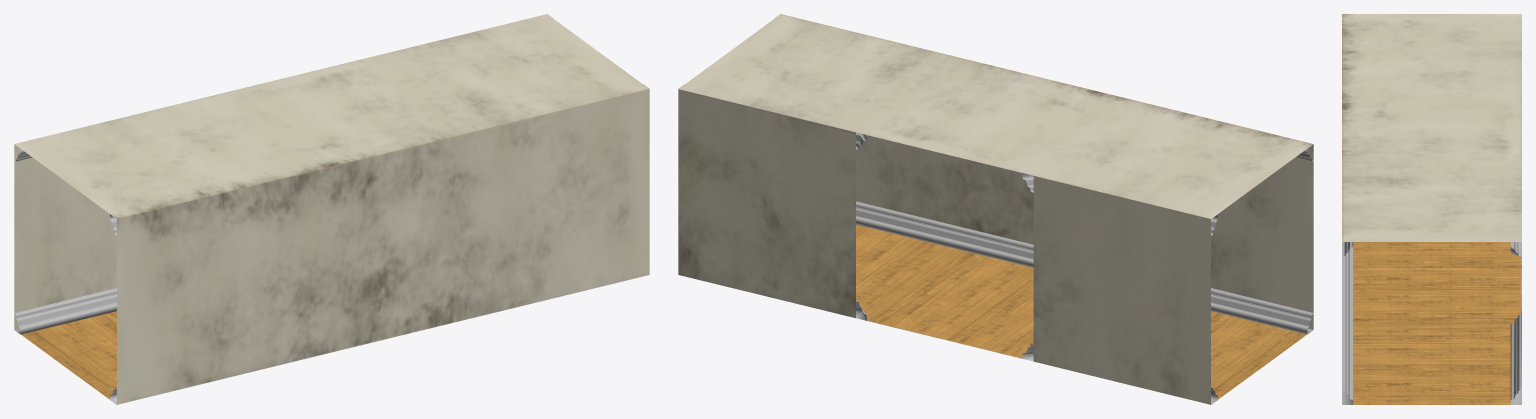
File: Hallway_LeftRightSplit.fbx
The picture shows the model from 3 angles, left to right: view 1: azimuth 30°, elevation 25°; view 2: azimuth 150°, elevation 25°; view 3: azimuth 270°, elevation 25°; orthographic projection. The views are drawn at different scales.
Parts seen in each view (by area): view 1: Hallway_LeftRightSplit; view 2: Hallway_LeftRightSplit; view 3: Hallway_LeftRightSplit.
Boxes of the visible parts, left/top/right/bottom form: Hallway_LeftRightSplit: left=14, top=14, right=649, bottom=404; Hallway_LeftRightSplit: left=678, top=14, right=1313, bottom=404; Hallway_LeftRightSplit: left=1342, top=14, right=1521, bottom=404.
Bounding box in the file's own units: 2246 × 748 × 748.
1 material, 1 textured.
